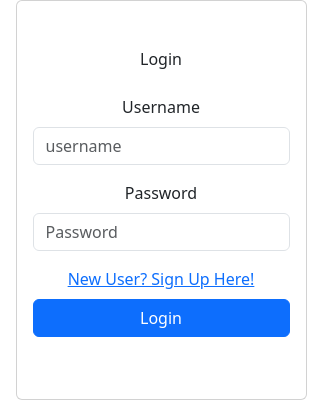
it: Login Component › should display error message on invalid password
Type "testuser" into the field with placeholder "username".
click(161, 146); type("testuser")  # box [32,127,290,165]
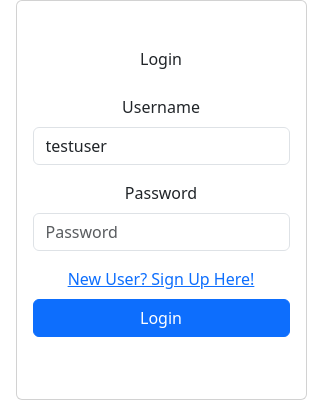
Type "password123" into the password field with placeholder "Password".
click(161, 232); type("password123")  # box [32,213,290,251]
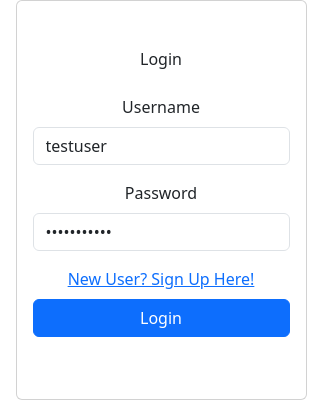
Click the button.
click(161, 318)  # box [32,299,290,337]
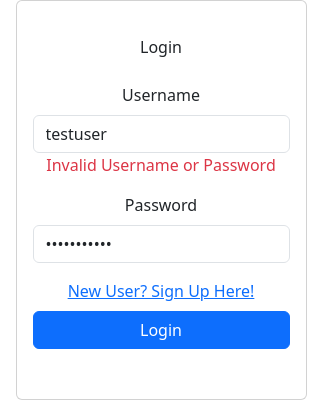
Expected: the text "Invalid Username or Password" is shown, [32,153,290,177]
